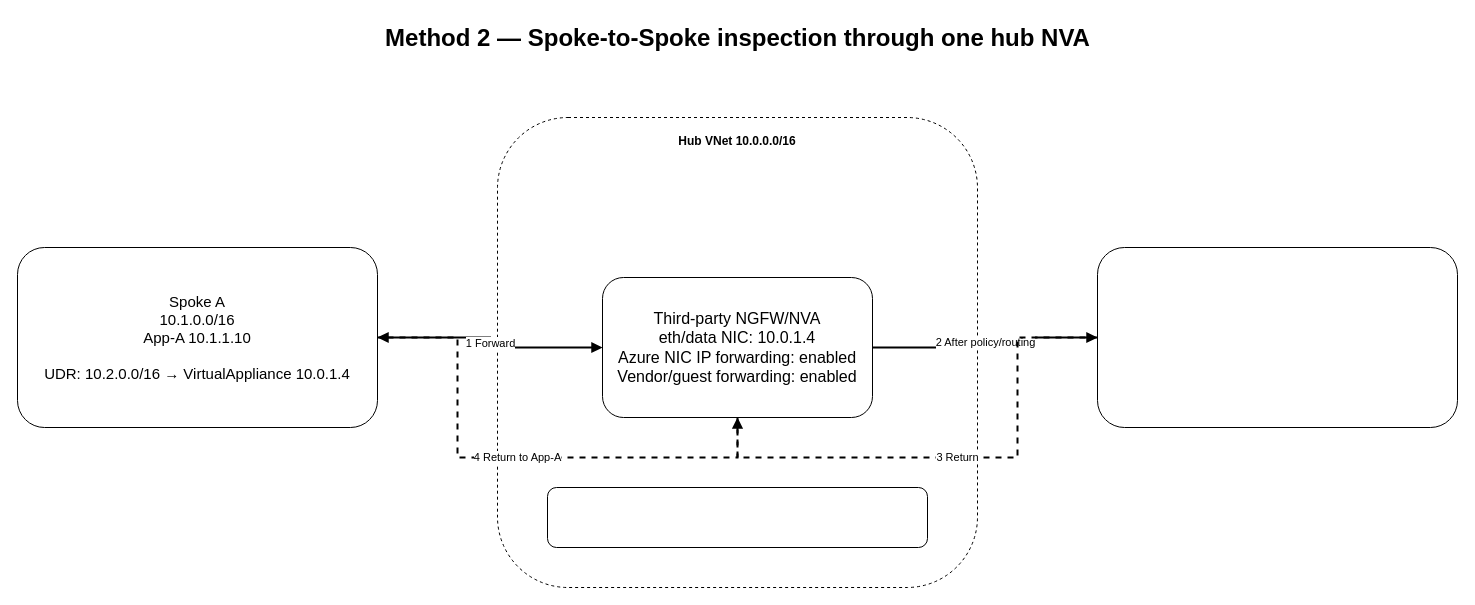
The diagram is 1475 pixels wide and 605 high, and some of its shapes have lost their labels. The shapes that lost their labels are listed below. From the top down, each one's centre as x and y in pixels, then its label:
[1277,337]: Spoke B 10.2.0.0/16 App-B 10.2.1.20 UDR: 10.1.0.0/16 → VirtualAppliance 10.0.1.4
[737,517]: Both peerings: Allow forwarded traffic
